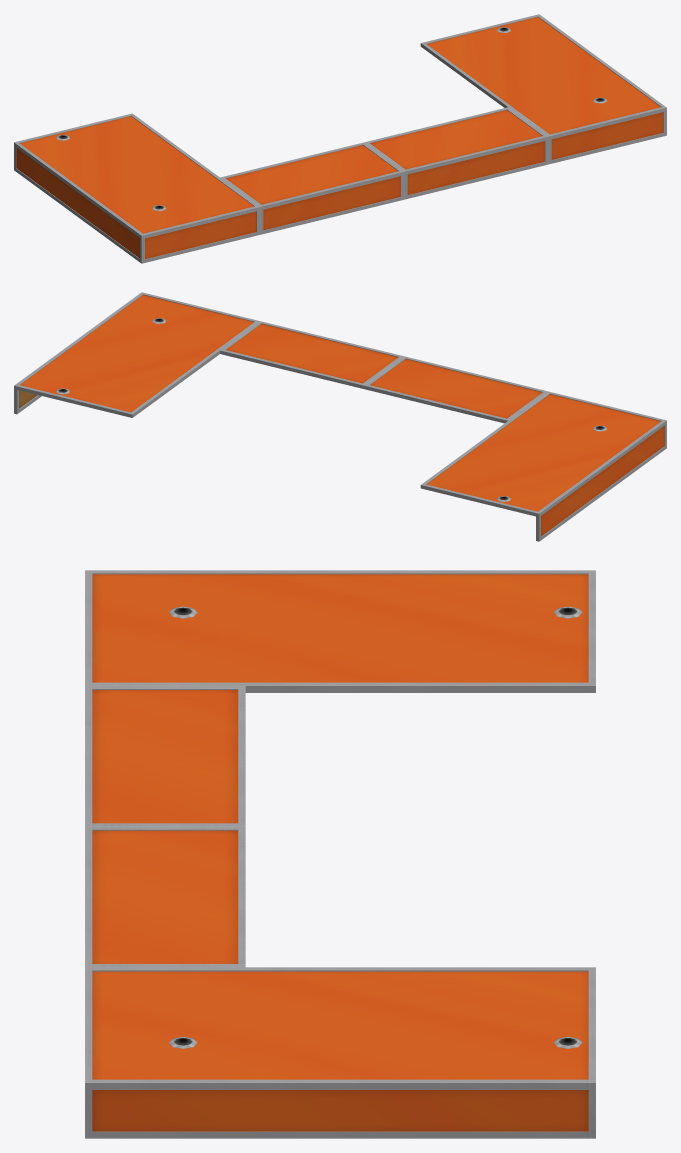
Rendered from jsf_4P_s02_c01_t03_DX.fbx.
3 renders of one model, top to bottom at view 1: azimuth 30°, elevation 25°; view 2: azimuth 150°, elevation 25°; view 3: azimuth 270°, elevation 25°, orthographic. The views are drawn at different scales.
Parts seen in each view (by area): view 1: jsf_4P_s02_c01_t03_DX; view 2: jsf_4P_s02_c01_t03_DX; view 3: jsf_4P_s02_c01_t03_DX.
Boxes of the visible parts, box(x1,y1,x2,y2) form: jsf_4P_s02_c01_t03_DX: box(14, 14, 666, 263); jsf_4P_s02_c01_t03_DX: box(14, 292, 666, 541); jsf_4P_s02_c01_t03_DX: box(85, 570, 595, 1138).
Bounding box in the file's own units: 246 × 12.99 × 104.
